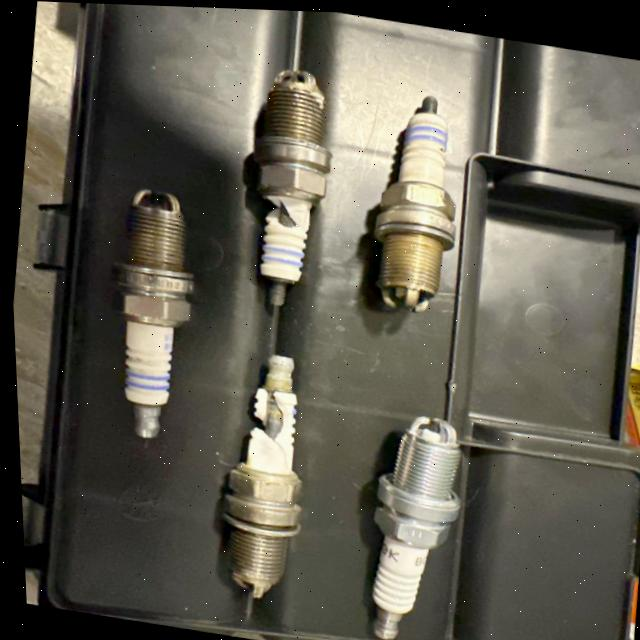damaged_spark-plug: (199, 325, 333, 609), (233, 57, 349, 314)
spark-plug: (341, 408, 471, 640), (98, 179, 200, 443), (359, 82, 468, 318)
